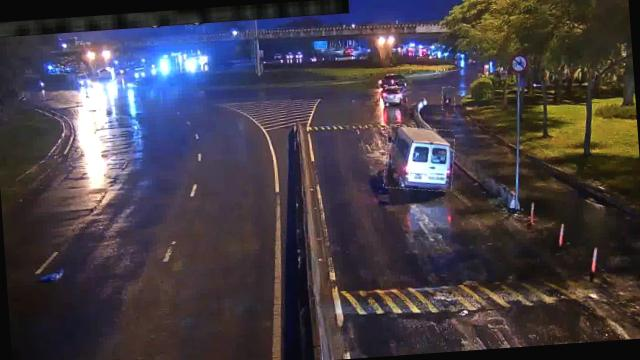Bike: (440, 86, 455, 110)
Bus: (382, 124, 456, 194)
Car: (380, 86, 406, 106)
